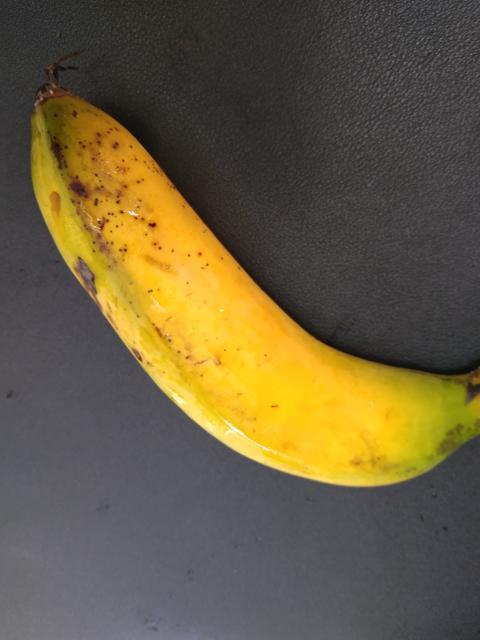ripe: (23, 70, 451, 518)
